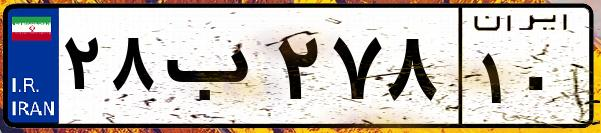0: (525, 38, 570, 115)
1: (475, 38, 525, 113)
2: (270, 28, 330, 110), (57, 26, 110, 100)
7: (330, 28, 385, 110)
8: (385, 28, 445, 110), (110, 28, 158, 98)
ب: (158, 20, 270, 120)
